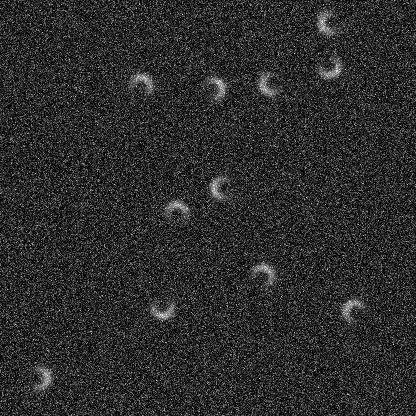Janus: (315, 7, 345, 37), (339, 296, 369, 326), (22, 362, 52, 392), (125, 71, 155, 101), (147, 291, 177, 321), (247, 261, 277, 291), (161, 198, 191, 228), (256, 67, 286, 97), (197, 74, 227, 104), (207, 172, 237, 202), (313, 50, 343, 80)
